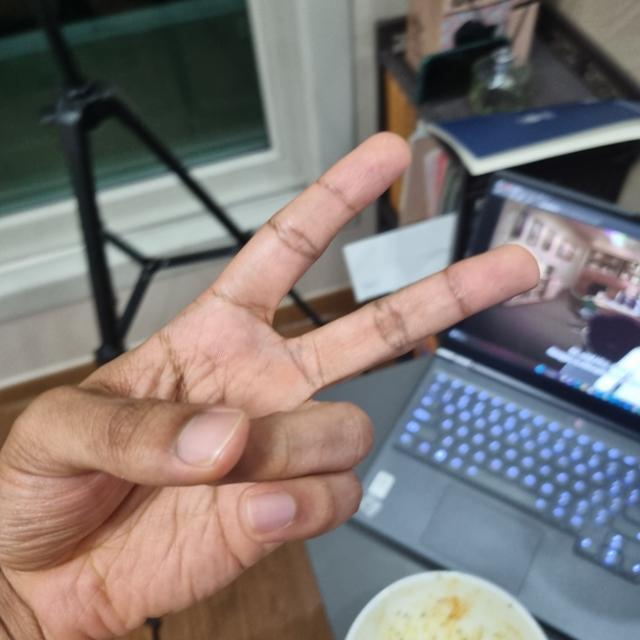Scissors: (2, 133, 533, 640)
